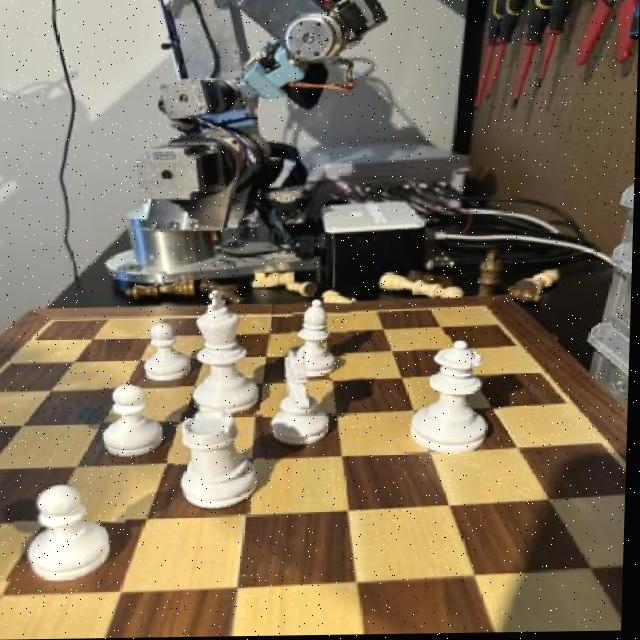black-rook: (290, 297, 352, 380)
white-bishop: (183, 289, 272, 413)
white-king: (270, 356, 336, 455)
white-knight: (12, 483, 132, 587), (100, 385, 179, 460), (139, 319, 198, 385)
white-pawn: (411, 336, 504, 456)
white-queen: (174, 406, 272, 517)
